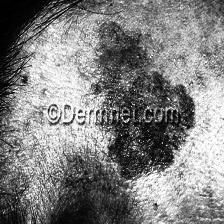Benign Marking or Mole: (96, 22, 194, 179)
